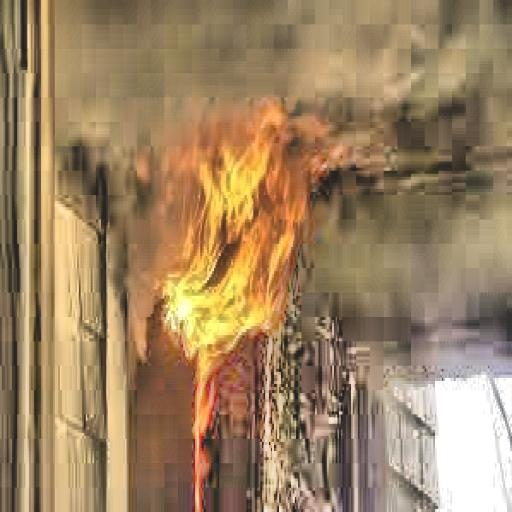fire: (146, 94, 344, 372)
